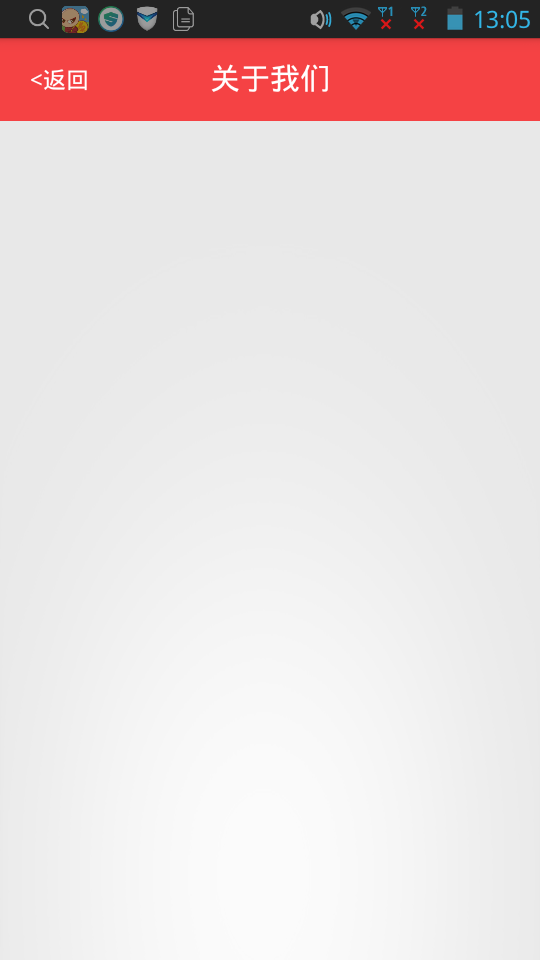button: (21, 54, 97, 103)
